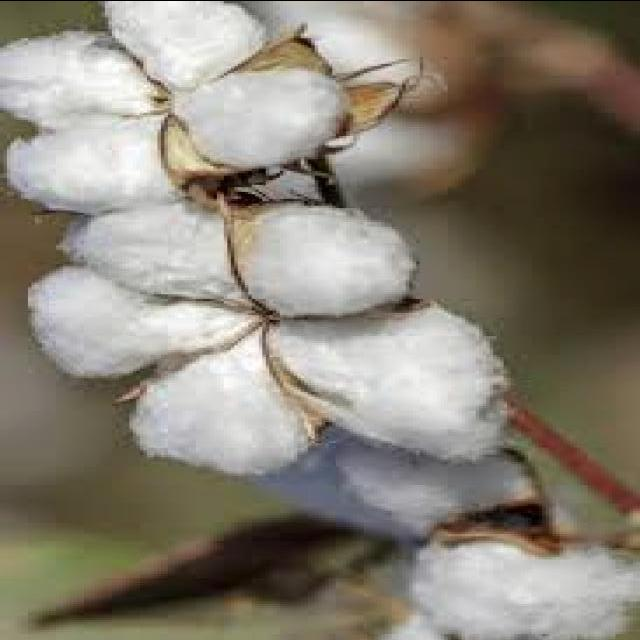Matured Cotton Boll: (22, 199, 520, 483), (1, 0, 364, 218), (392, 529, 640, 640)
